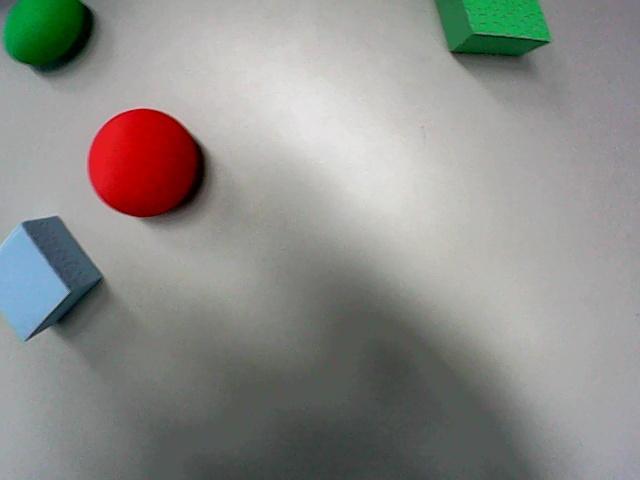blue_block: (0, 217, 101, 340)
